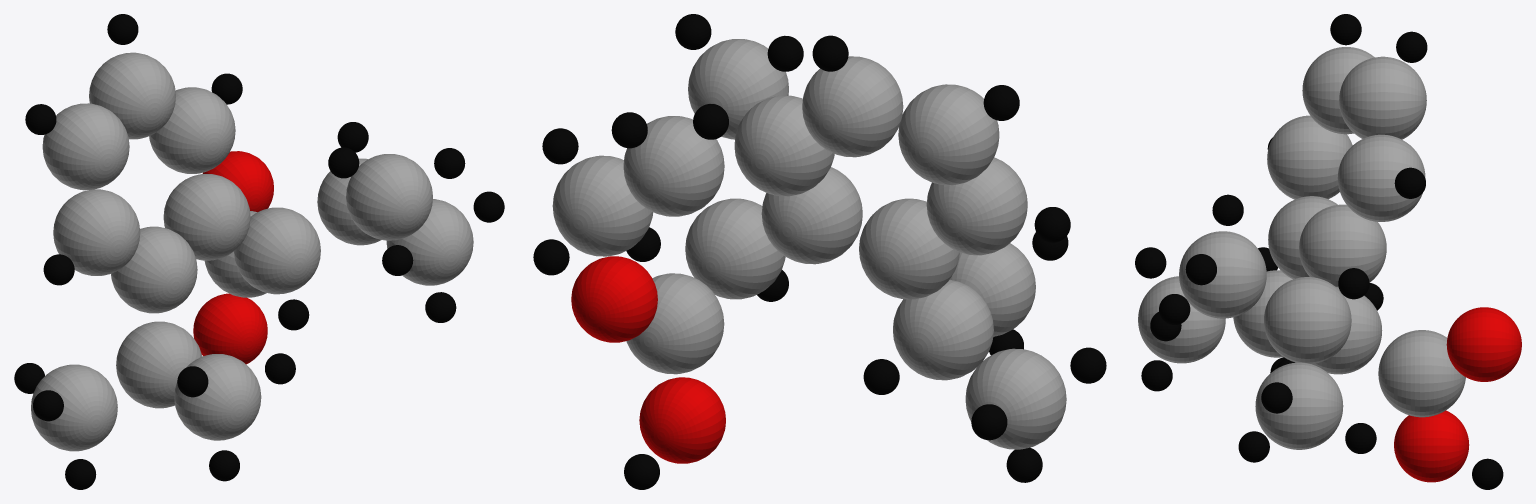
File: Naproxen.glb
The picture shows the model from 3 angles, left to right: view 1: azimuth 30°, elevation 25°; view 2: azimuth 150°, elevation 25°; view 3: azimuth 270°, elevation 25°; orthographic projection. The views are drawn at different scales.
Parts seen in each view (by area): view 1: world; view 2: world; view 3: world.
Part boxes in pixels (x1=…): world: x1=14, y1=14, x2=504, y2=489; world: x1=533, y1=14, x2=1106, y2=489; world: x1=1135, y1=14, x2=1521, y2=489.
Size of the model in its own units: 8.81 by 7.13 by 6.17.
